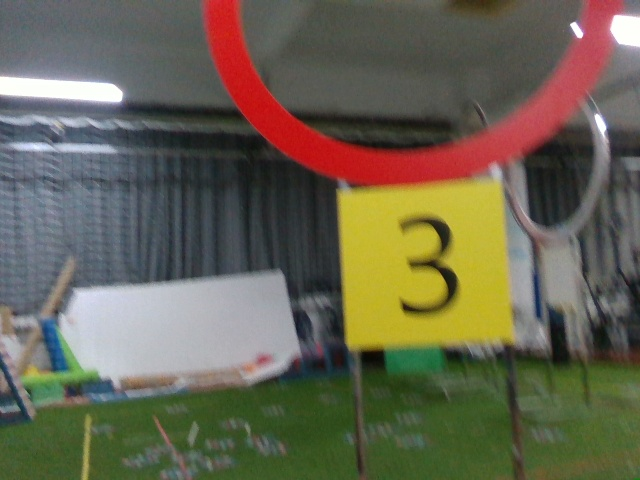target: (333, 187, 512, 345)
